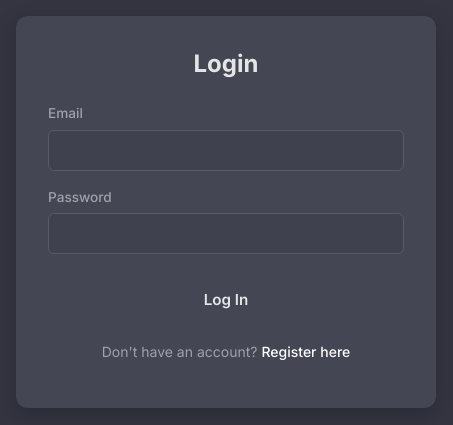
Test: Login page › disables submit button while submitting
In the field labelled "Email": (226, 150) [48,130,404,171], type "user@example.com"
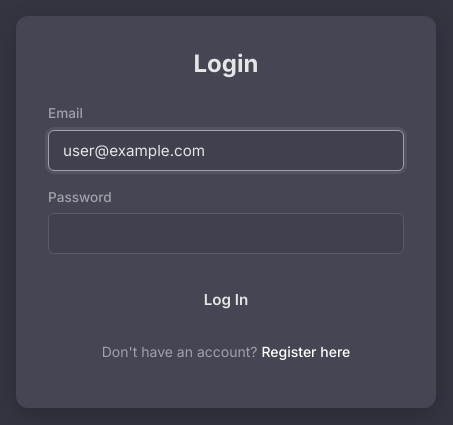
In the password field labelled "Password": (226, 234) [48,213,404,254], type "Password1"
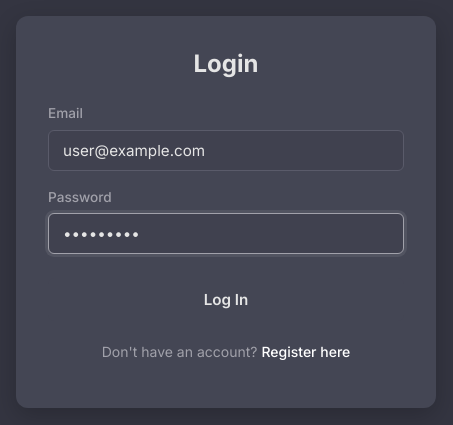
Click the button "Log In": (226, 300) [48,278,404,321]
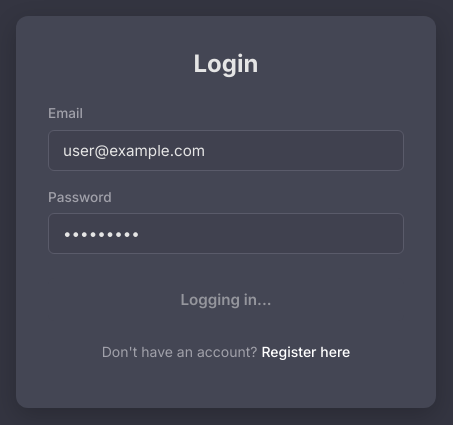
Now the button "Logging in..." is disabled, box [48,278,404,321]
